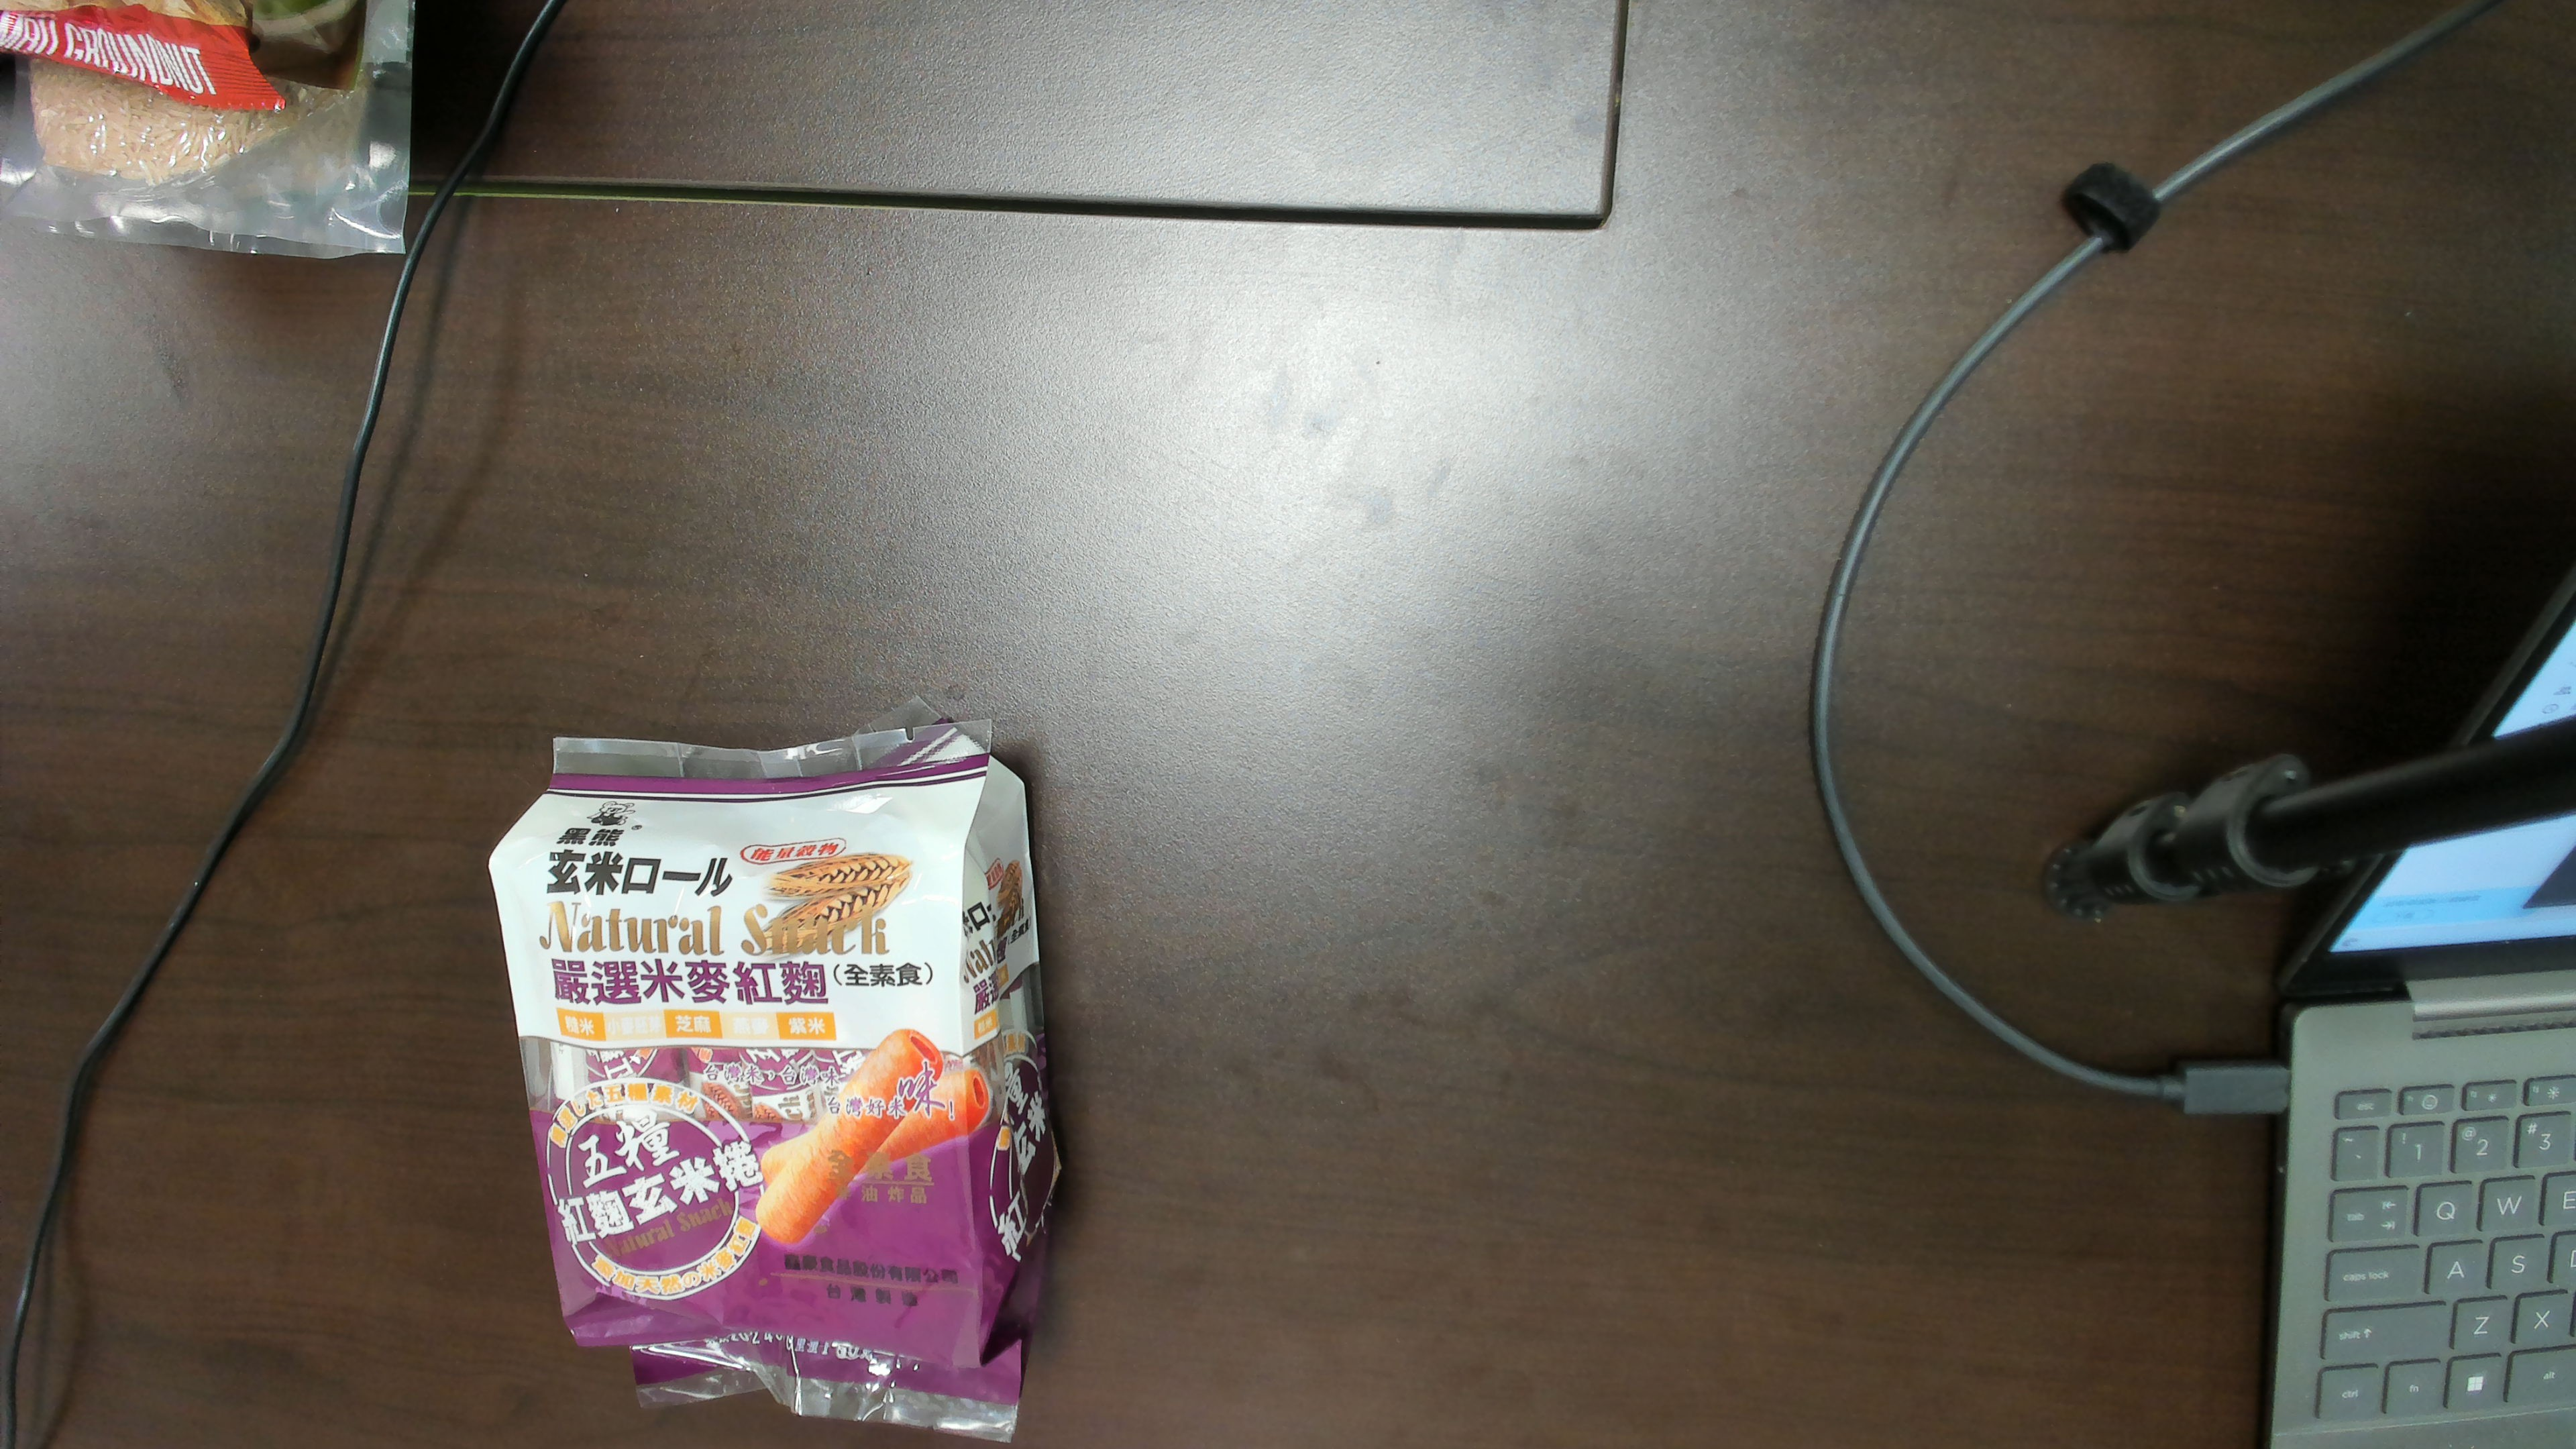BiscuitsCrackersCookies_100-199g_NonHalal_NonHealthy: (550, 840, 977, 1322)
